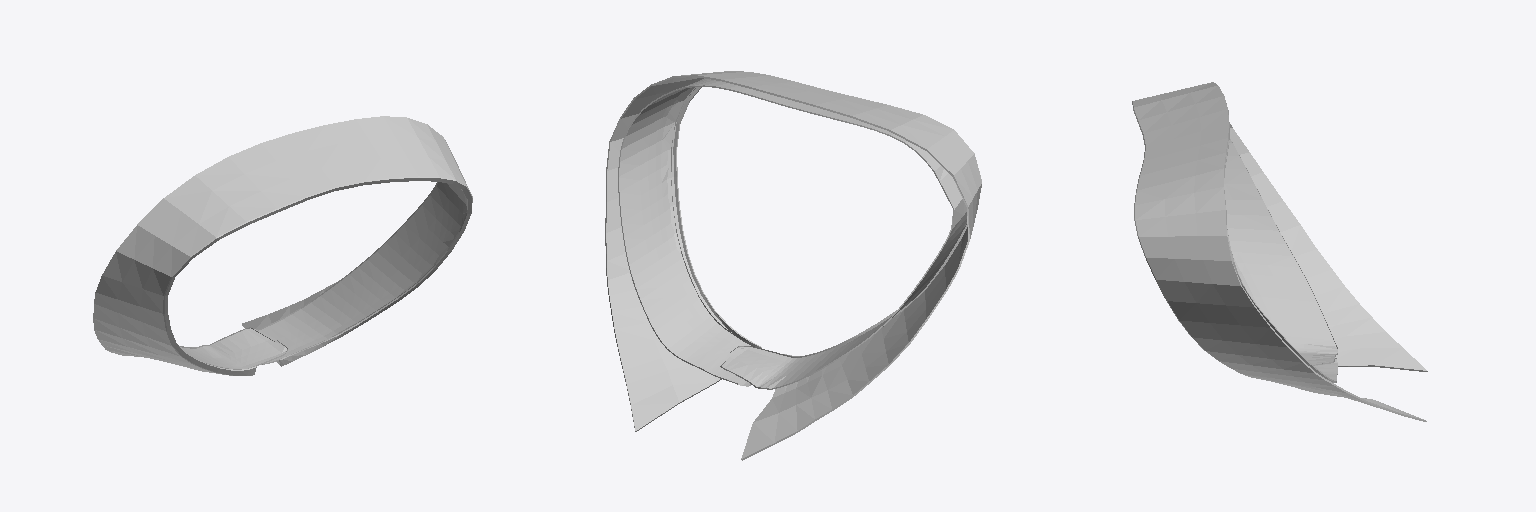
3 renders of one model, left to right at view 1: azimuth 30°, elevation 25°; view 2: azimuth 150°, elevation 25°; view 3: azimuth 270°, elevation 25°, orthographic.
Parts seen in each view (by area): view 1: 19_low_BD_a1, inner_collar_out; view 2: 19_low_BD_a1, inner_collar_out; view 3: 19_low_BD_a1, inner_collar_out.
Boxes of the visible parts, x1,y1,x2,y2 form: 19_low_BD_a1: [93, 116, 472, 375]; inner_collar_out: [179, 182, 466, 369]; 19_low_BD_a1: [605, 71, 981, 460]; inner_collar_out: [618, 78, 966, 389]; 19_low_BD_a1: [1132, 82, 1427, 421]; inner_collar_out: [1224, 128, 1337, 382].
Size of the model in its own units: 17.81 by 13.32 by 12.79.